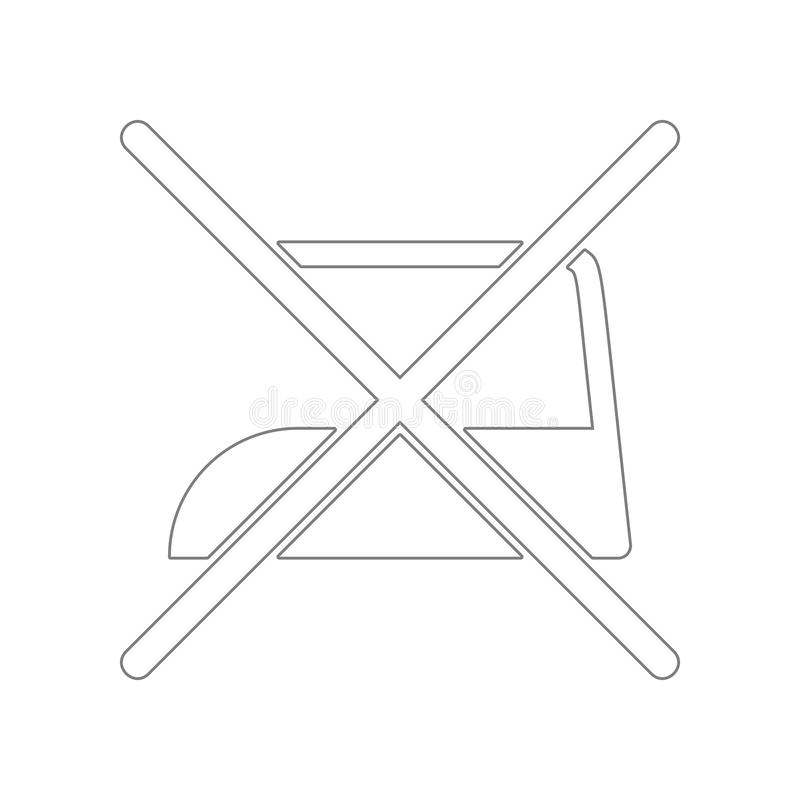do_not_iron: (113, 116, 684, 681)
